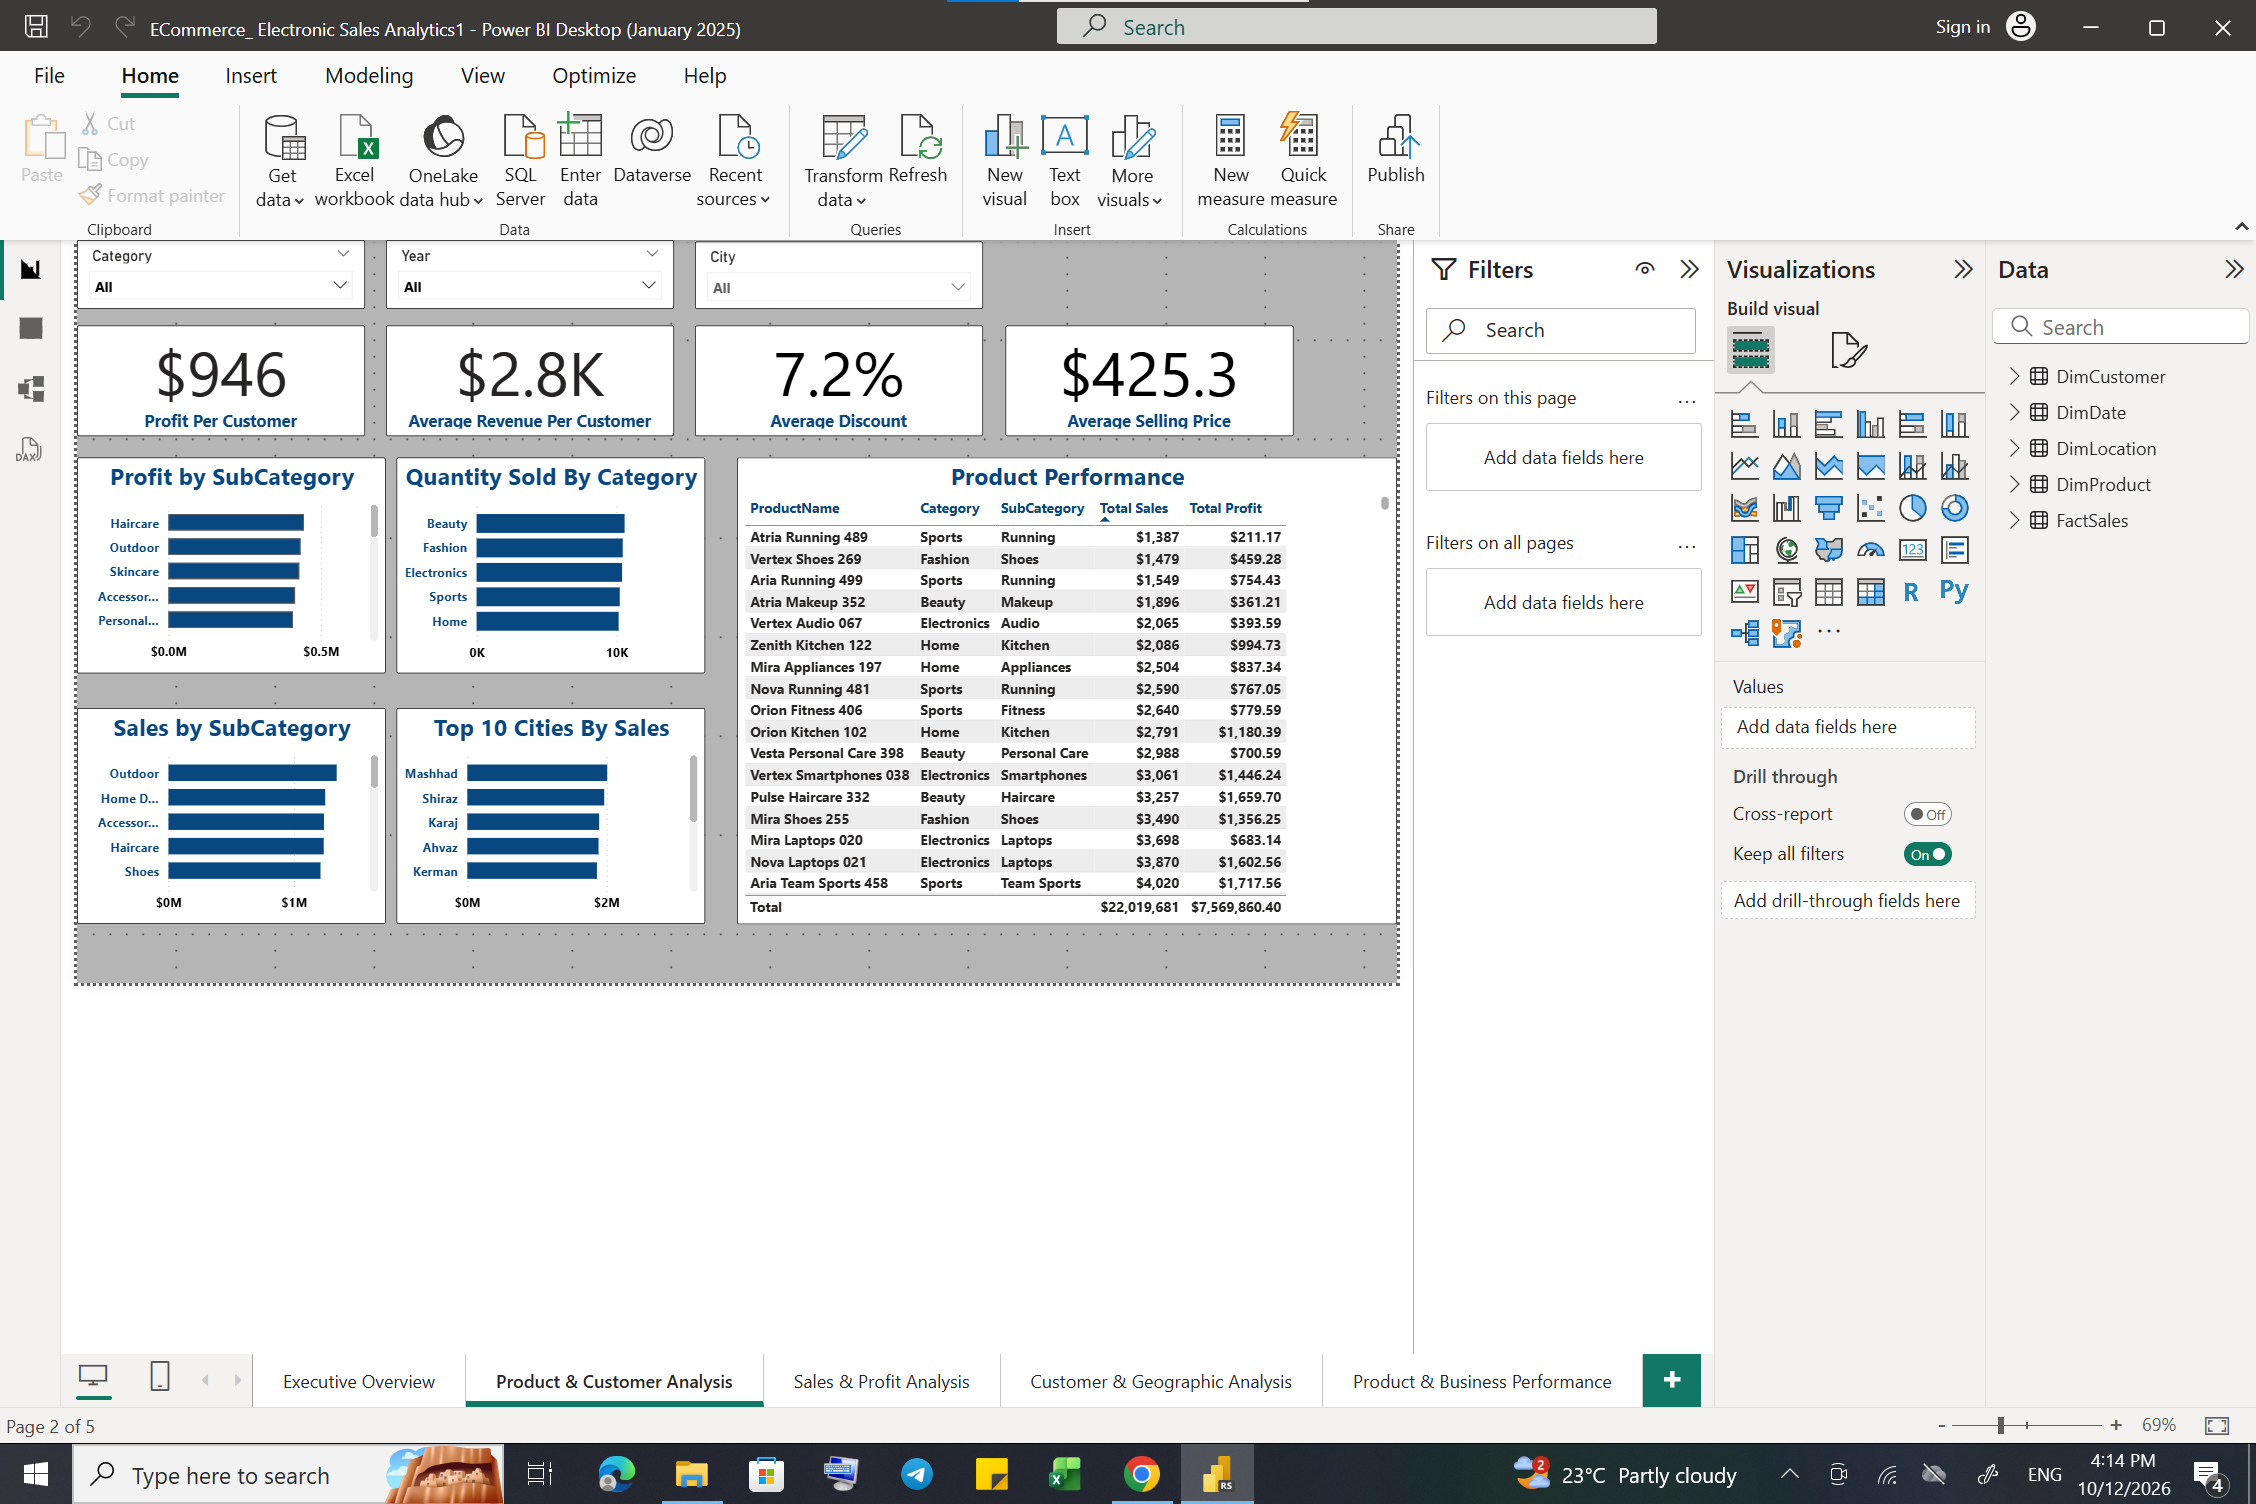

What the dashboard file says about the page in this screenshot:
{"tool":"powerbi","page":{"name":"Product & Customer Analysis","canvas":[1280,720],"ordinal":1},"visuals":[{"type":"slicer","fields":{"Values":["DimProduct.Category"]},"box":[0,0,279.3,66.9],"z":0},{"type":"clusteredBarChart","title":"Sales by SubCategory","fields":{"Category":["DimProduct.SubCategory"],"Y":["FactSales.Total Sales"]},"box":[0,453.8,299.6,209.5],"z":1000},{"type":"clusteredBarChart","title":"Profit by SubCategory","fields":{"Y":["FactSales.Total Profit"],"Category":["DimProduct.SubCategory"]},"box":[0,210.9,299.6,209],"z":2000},{"type":"clusteredBarChart","title":"Top 10 Cities By Sales","fields":{"Category":["DimCustomer.City"],"Y":["FactSales.Total Sales"]},"box":[309.8,453.8,299.6,209.5],"z":3000},{"type":"card","fields":{"Values":["FactSales.Profit Per Customer"]},"box":[0,82.9,279.3,107.6],"z":4000},{"type":"card","fields":{"Values":["FactSales.Average Revenue Per Customer"]},"box":[299.6,82.9,279.3,107.6],"z":5000},{"type":"card","fields":{"Values":["FactSales.Average Discount"]},"box":[599.3,82.9,279.3,107.6],"z":6000},{"type":"clusteredBarChart","title":"Quantity Sold By Category","fields":{"Category":["DimProduct.Category"],"Y":["FactSales.Total Quantity"]},"box":[309.8,210.9,299.6,209.5],"z":7000},{"type":"tableEx","title":"Product Performance","fields":{"Values":["DimProduct.ProductName","DimProduct.Category","DimProduct.SubCategory","FactSales.Total Sales","FactSales.Total Profit"]},"box":[640,210.9,640,452.4],"z":8000},{"type":"slicer","fields":{"Values":["DimDate.Year"]},"box":[299.6,0,279,66.9],"z":9000},{"type":"slicer","fields":{"Values":["DimCustomer.City"]},"box":[599.3,1.5,279.3,65.5],"z":10000},{"type":"card","fields":{"Values":["FactSales.Average Selling Price"]},"box":[900.4,82.9,279,107.6],"z":11000}]}

Visuals, with their boxes on the page's 1280x720 design canvas (x1, y1, x2, y2). These are canvas units, not pixel positions in the 2256x1504 screenshot, which may show the page scaled, cropped or inside an application window:
slicer - DimProduct.Category: box(0, 0, 279, 67)
"Sales by SubCategory" clusteredBarChart: box(0, 454, 300, 663)
"Profit by SubCategory" clusteredBarChart: box(0, 211, 300, 420)
"Top 10 Cities By Sales" clusteredBarChart: box(310, 454, 609, 663)
card - FactSales.Profit Per Customer: box(0, 83, 279, 190)
card - FactSales.Average Revenue Per Customer: box(300, 83, 579, 190)
card - FactSales.Average Discount: box(599, 83, 879, 190)
"Quantity Sold By Category" clusteredBarChart: box(310, 211, 609, 420)
"Product Performance" tableEx: box(640, 211, 1280, 663)
slicer - DimDate.Year: box(300, 0, 579, 67)
slicer - DimCustomer.City: box(599, 2, 879, 67)
card - FactSales.Average Selling Price: box(900, 83, 1179, 190)
